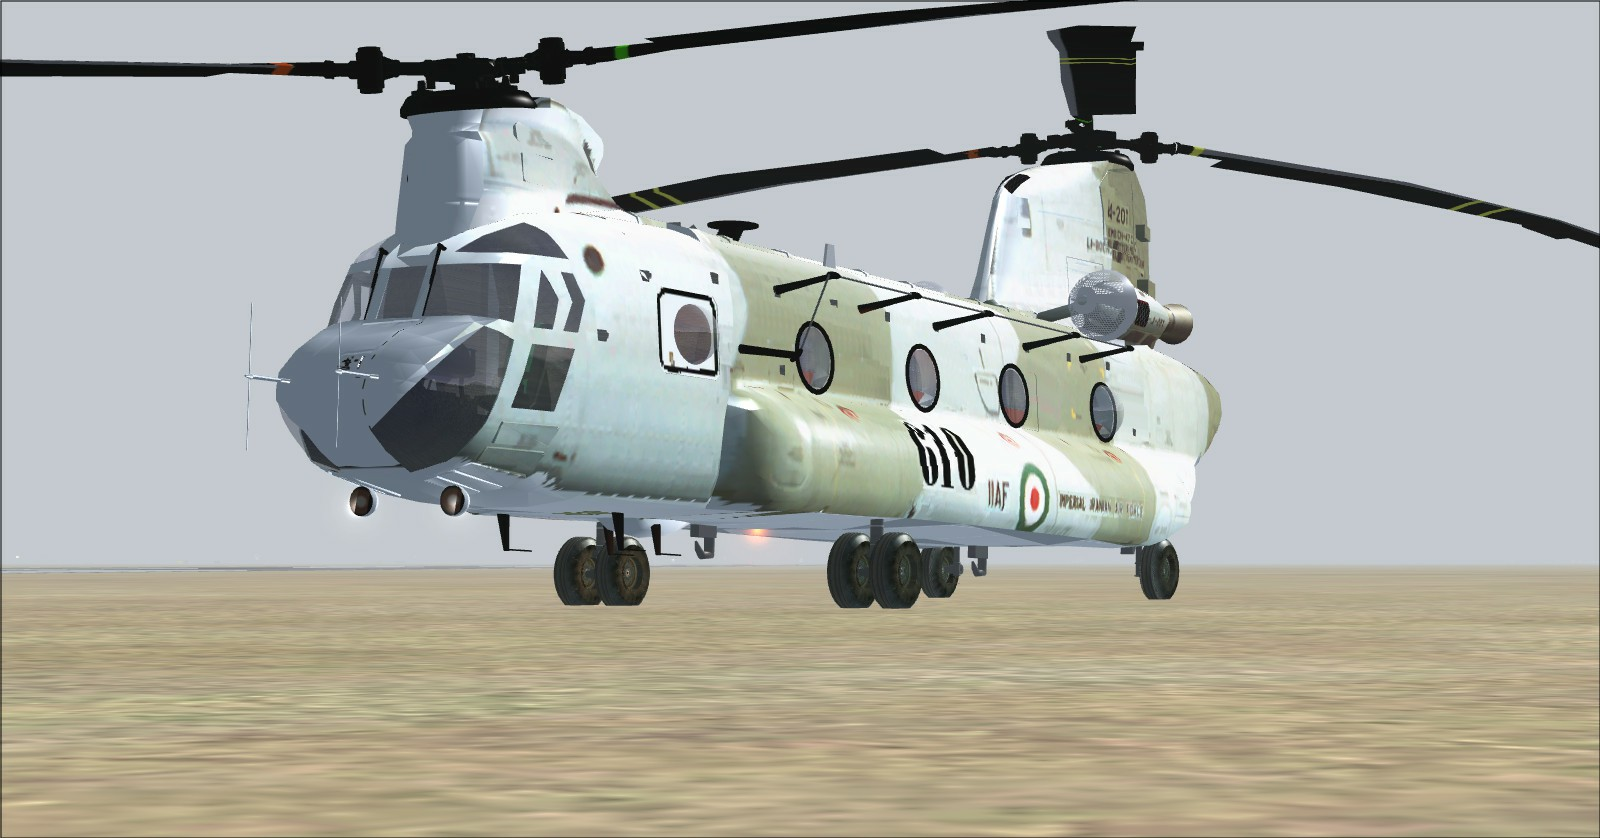chinook: (58, 10, 1514, 611)
